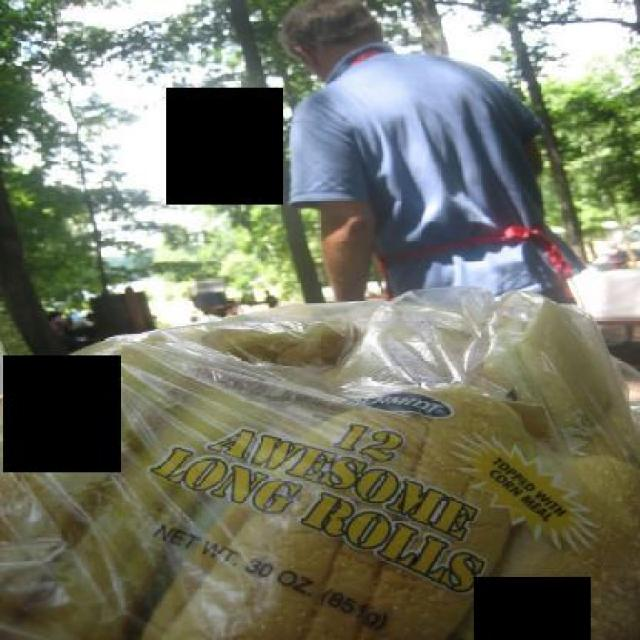plastic bag: (0, 284, 638, 638)
